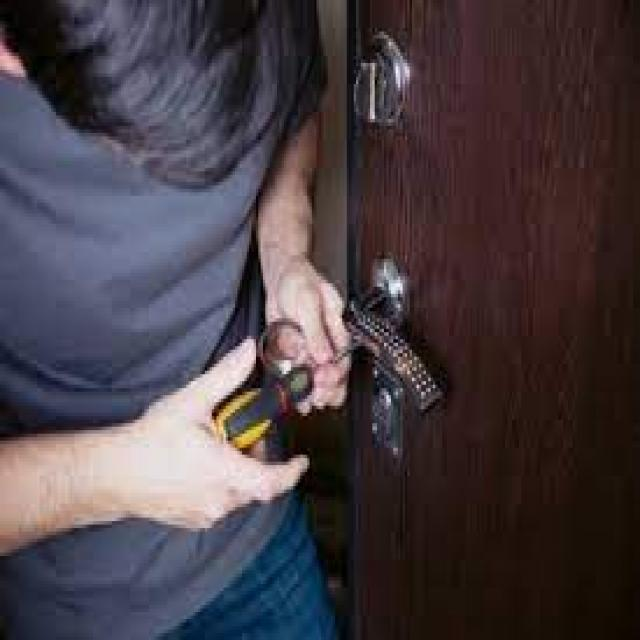screwdriver: (204, 274, 396, 474)
